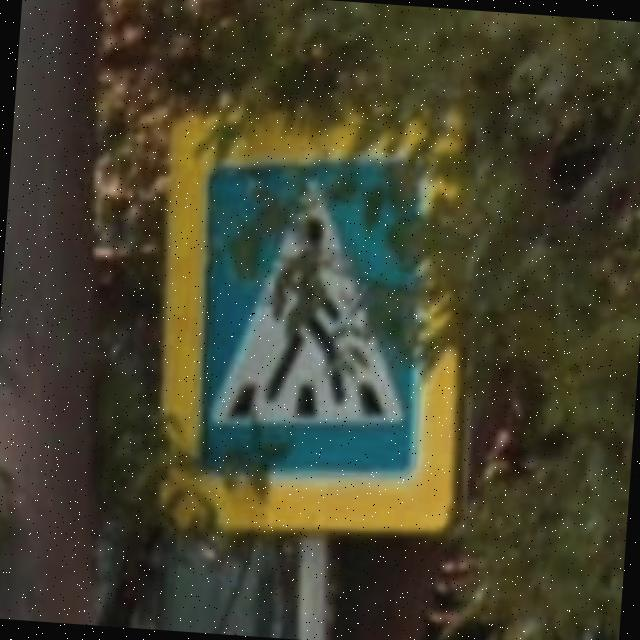Przejscie dla pieszych: (136, 80, 497, 556)
